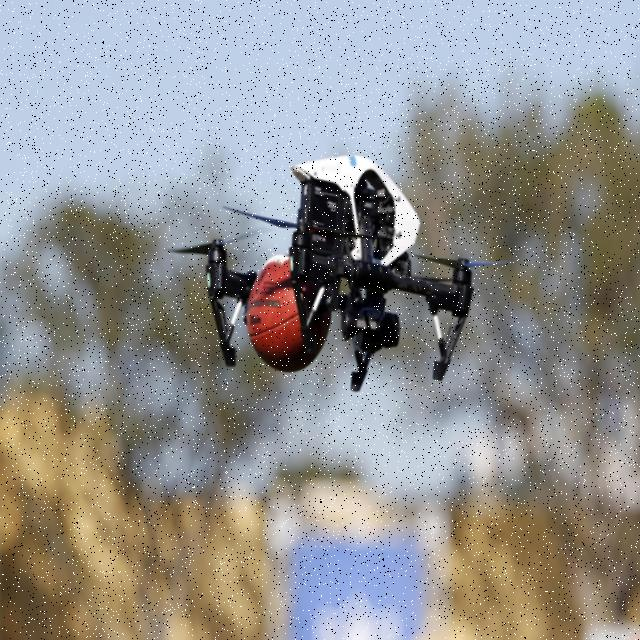UAV: (202, 147, 478, 390)
